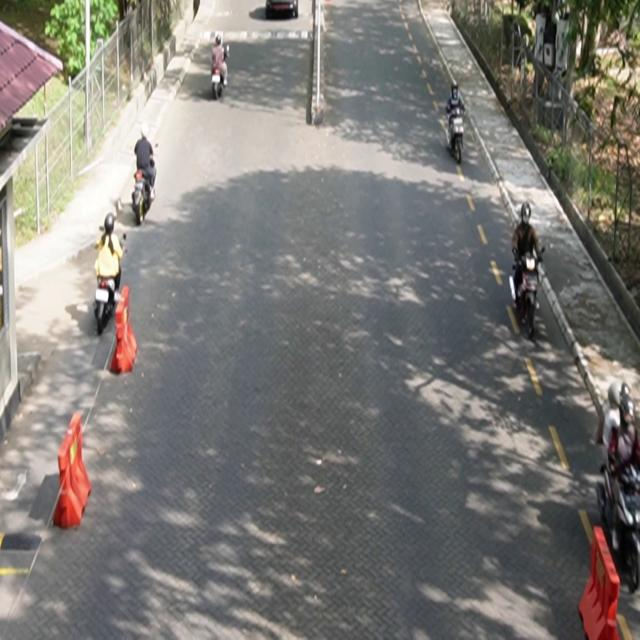car: (265, 1, 299, 19)
